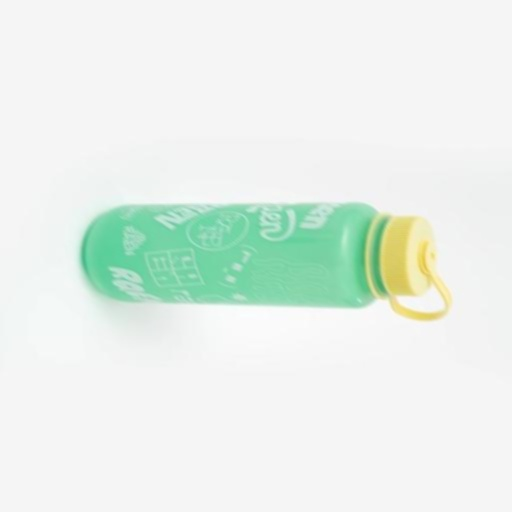bottle: (78, 200, 456, 323)
